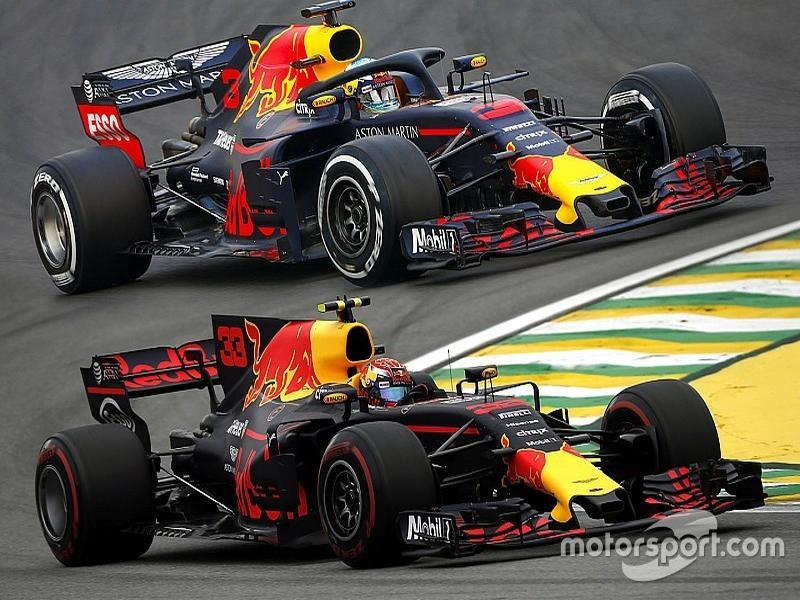f1: (33, 11, 771, 279), (39, 300, 768, 563)
